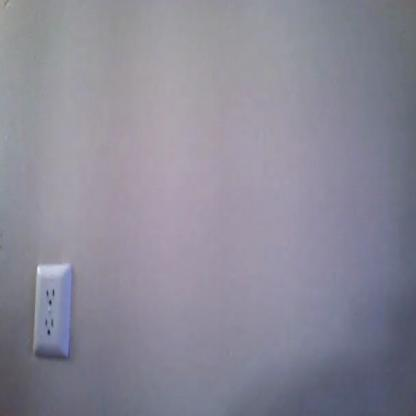OUTLET: (32, 264, 72, 355)
